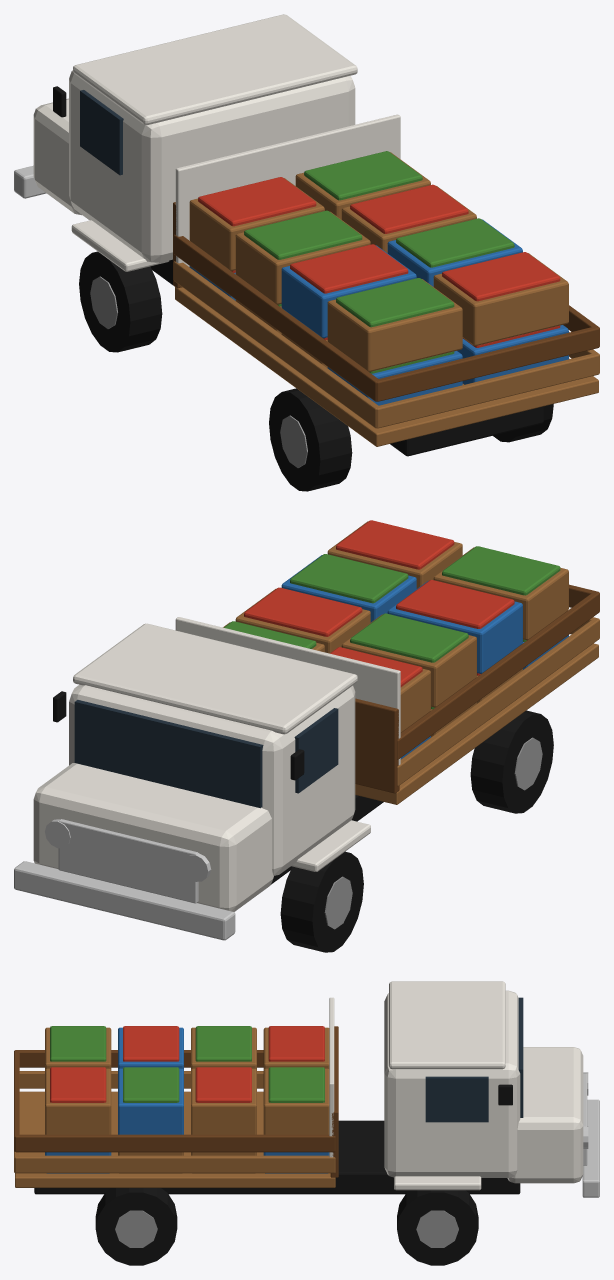
The model's file is nakliye_yuklu.glb.
The picture shows the model from 3 angles, top to bottom: view 1: azimuth 30°, elevation 25°; view 2: azimuth 150°, elevation 25°; view 3: azimuth 270°, elevation 25°; orthographic projection. The views are drawn at different scales.
Visible parts, largest first — view 1: Ayna; view 2: Ayna; view 3: Ayna.
Part boxes in pixels (x1,y1,x2,y2): Ayna: (14,14,599,491); Ayna: (14,520,599,952); Ayna: (14,981,599,1265).
Bounding box in the file's own units: 0.3847 × 0.3737 × 1.
